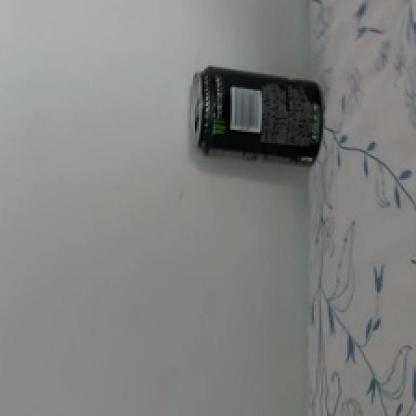Can: (184, 65, 328, 167)
